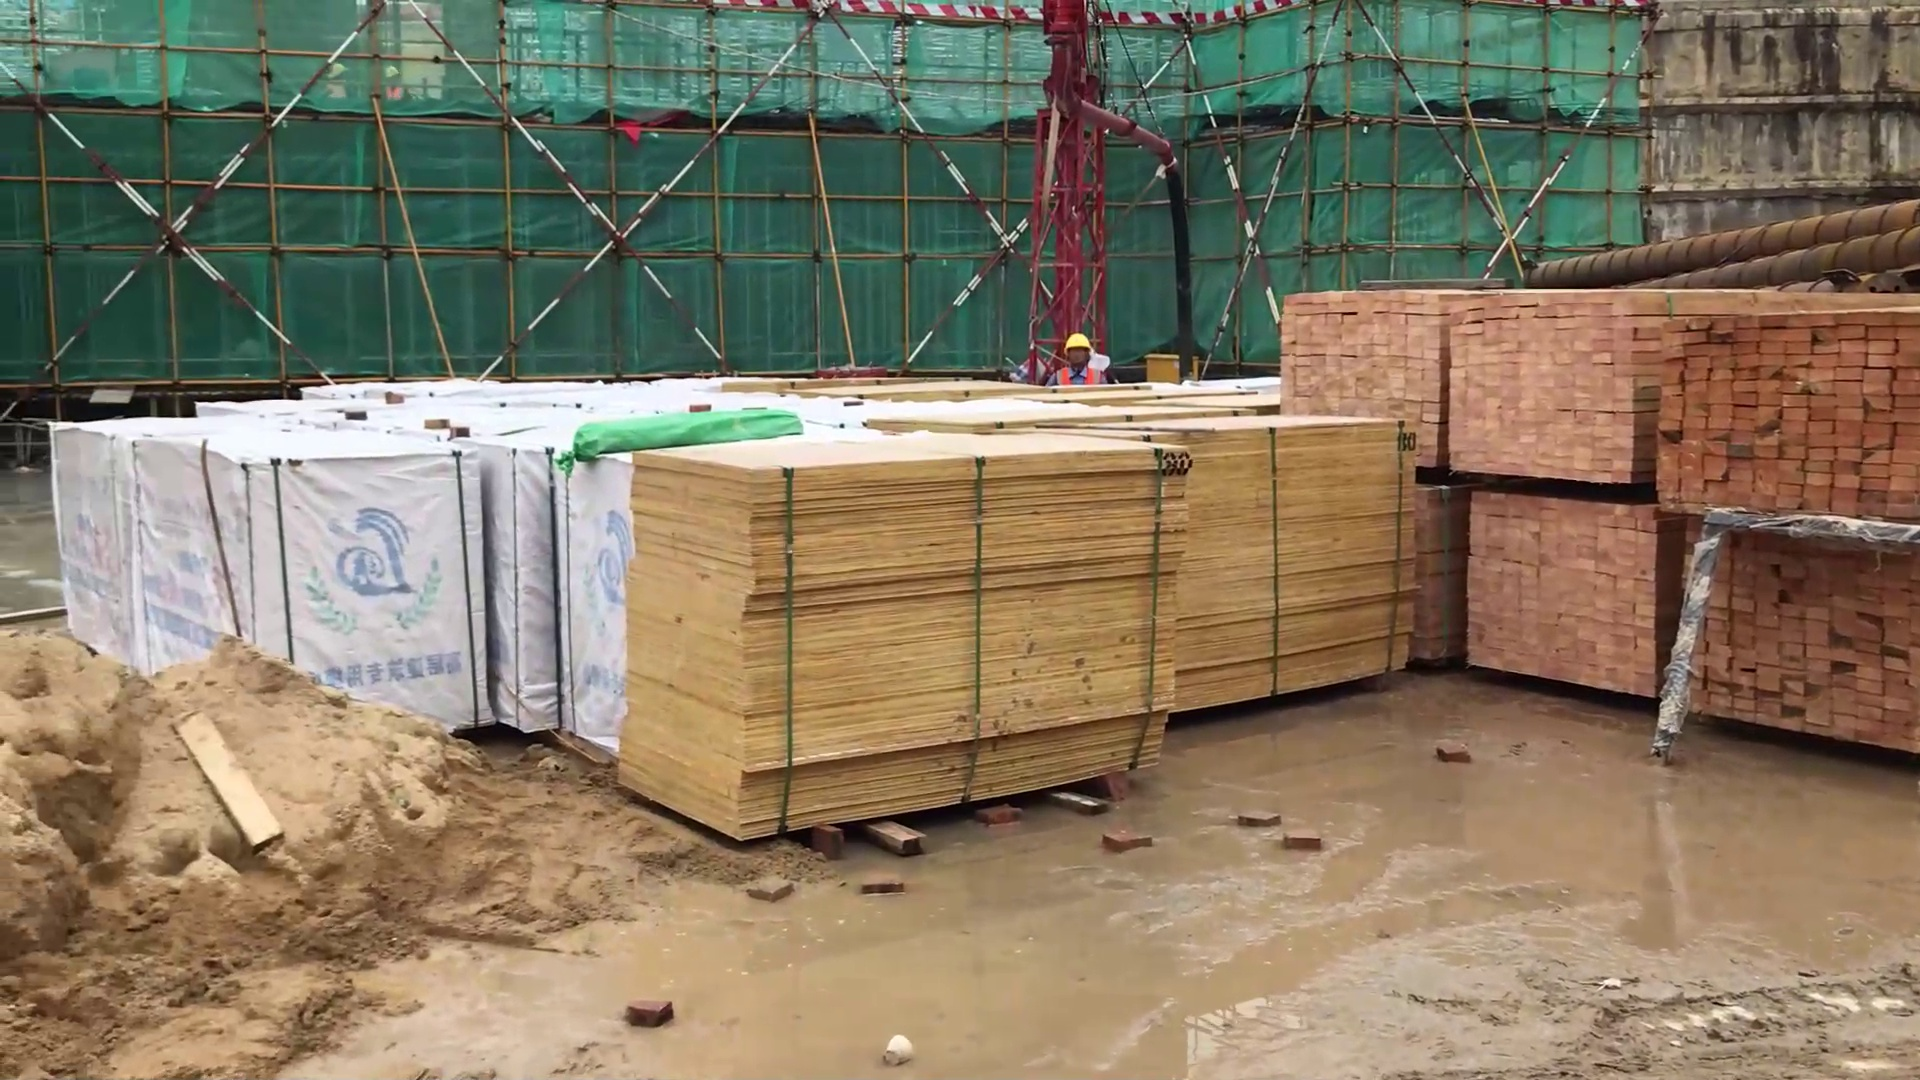board: (619, 427, 1203, 845), (1140, 374, 1429, 731)
ebox: (1145, 348, 1203, 389)
helmet: (1063, 331, 1095, 351)
person: (1047, 331, 1111, 387)
vest: (1054, 364, 1105, 384)
wood: (1677, 518, 1920, 771), (1670, 296, 1920, 532), (1460, 486, 1670, 705), (1449, 289, 1655, 492), (1281, 282, 1447, 415)
